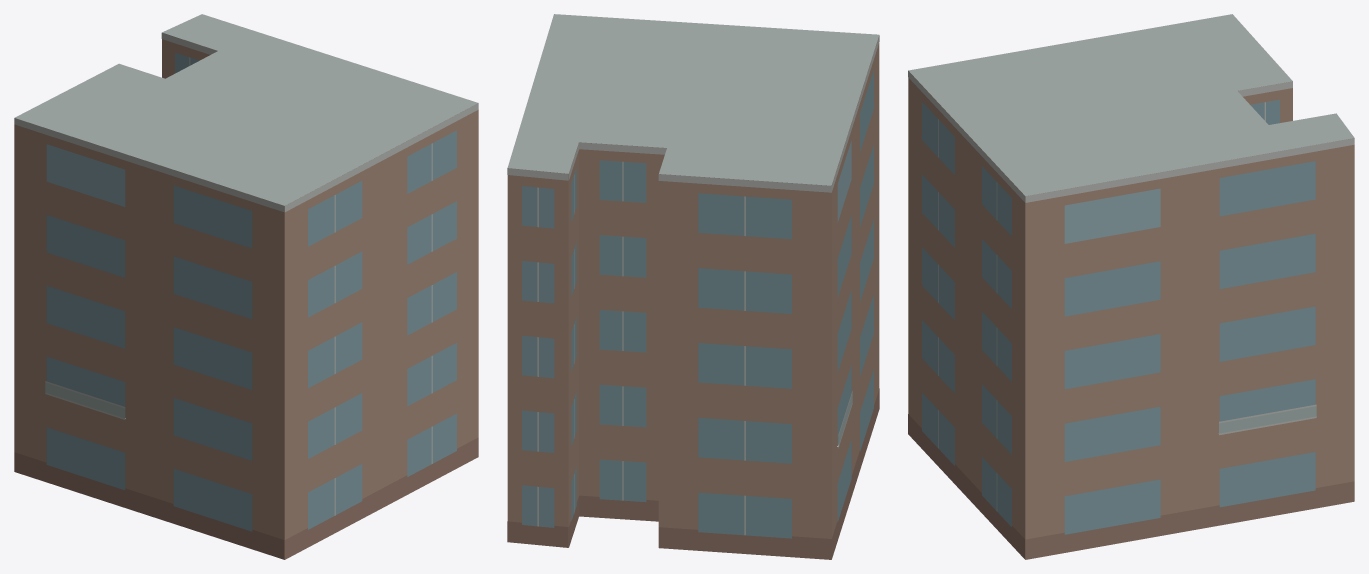
The model's file is survey-upis-32861300.glb.
3 renders of one model, left to right at view 1: azimuth 30°, elevation 25°; view 2: azimuth 150°, elevation 25°; view 3: azimuth 270°, elevation 25°, orthographic. The views are drawn at different scales.
Parts seen in each view (by area): view 1: survey-upis-32861300.tmp; view 2: survey-upis-32861300.tmp; view 3: survey-upis-32861300.tmp.
Part boxes in pixels (bbox=[...]): survey-upis-32861300.tmp: bbox=[14, 14, 478, 559]; survey-upis-32861300.tmp: bbox=[507, 14, 879, 559]; survey-upis-32861300.tmp: bbox=[908, 14, 1354, 559].
Bounding box in the file's own units: 14.2 × 13.2 × 14.7.
